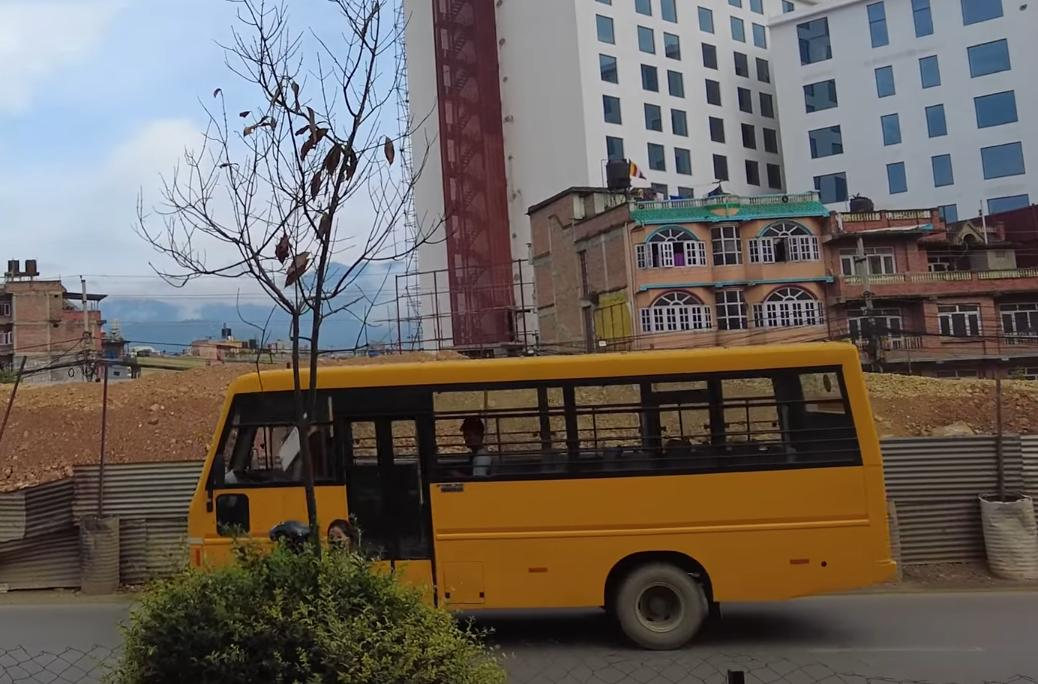school_bus: (183, 332, 914, 661)
